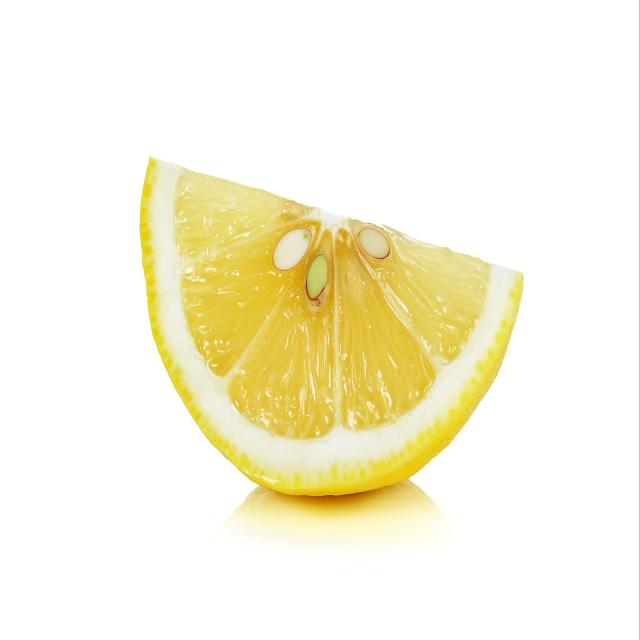lemon: (136, 148, 529, 506)
